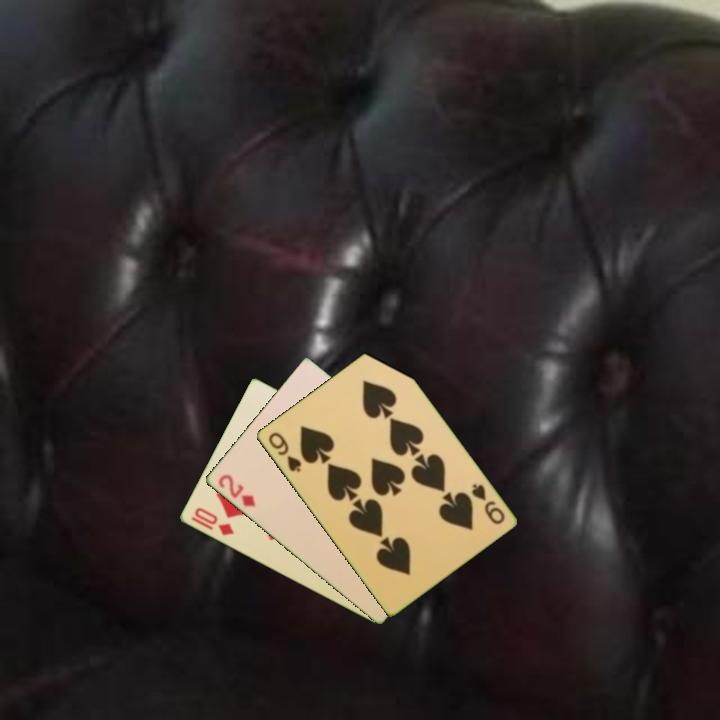10d: (190, 504, 237, 539)
2d: (214, 471, 258, 510)
9s: (264, 428, 304, 475), (467, 480, 507, 527)
